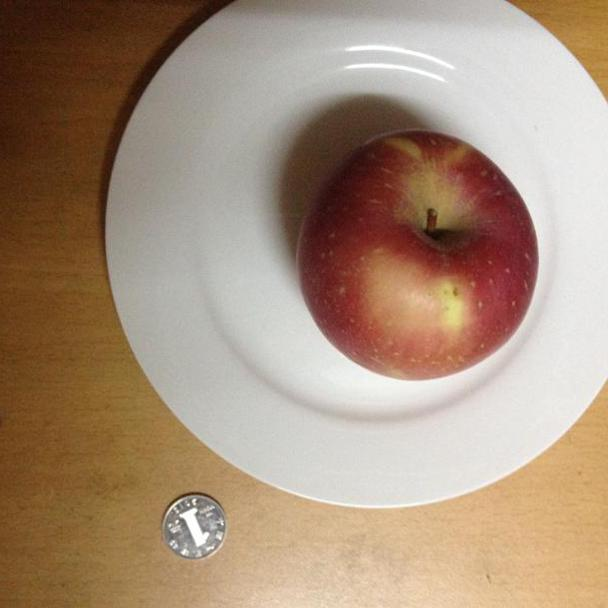apple: (295, 130, 541, 382)
